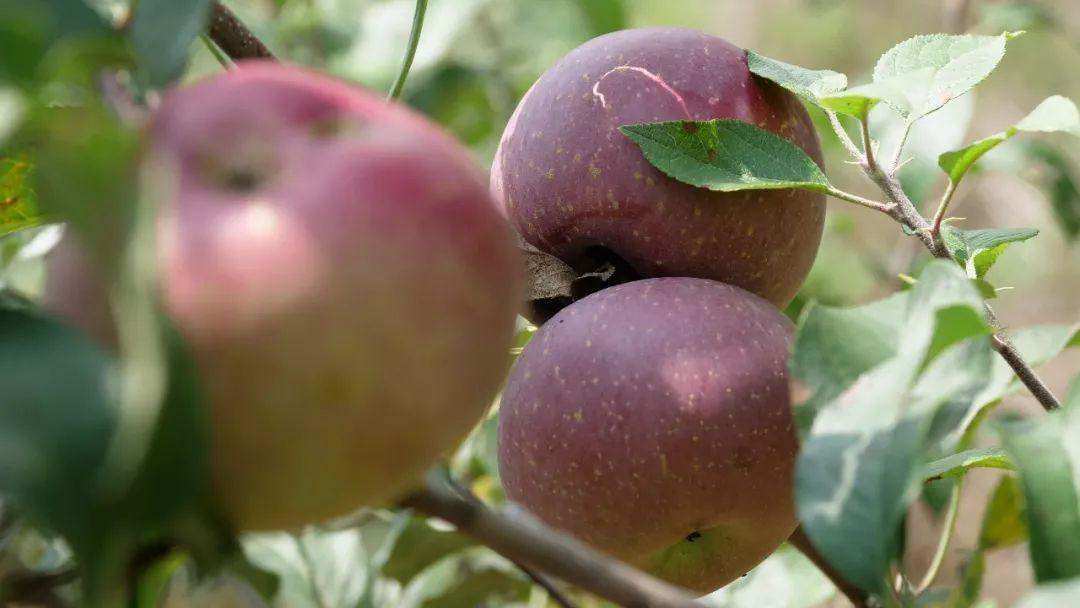apple: (37, 60, 523, 538), (485, 24, 828, 330), (493, 277, 809, 601)
